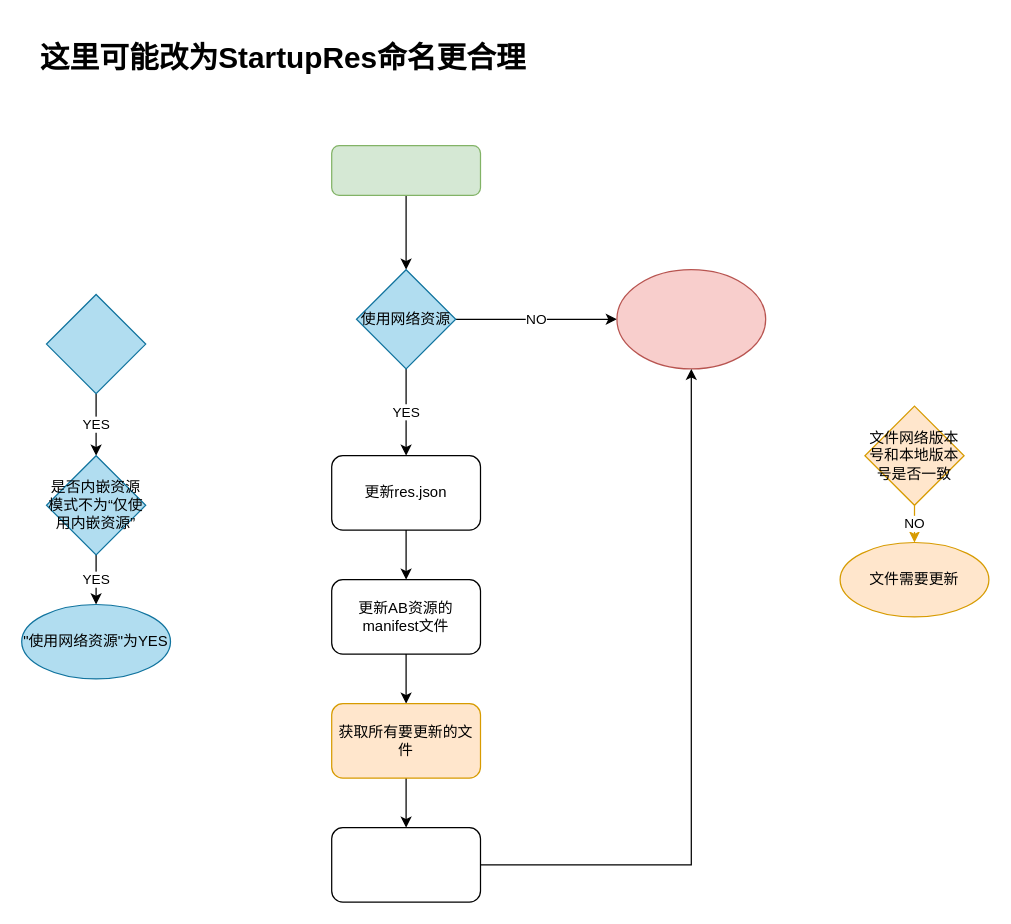
This 1011x924 diagram has some shape labels left out. Here are the shapes that lost their labels. From the top down, the centre of each, then its label:
At point 405,169: "Start".
At point 691,318: "正常返回".
At point 95,343: "是网络资源模式".
At point 405,864: "根据更新列表，下载所有要更新的文件".
